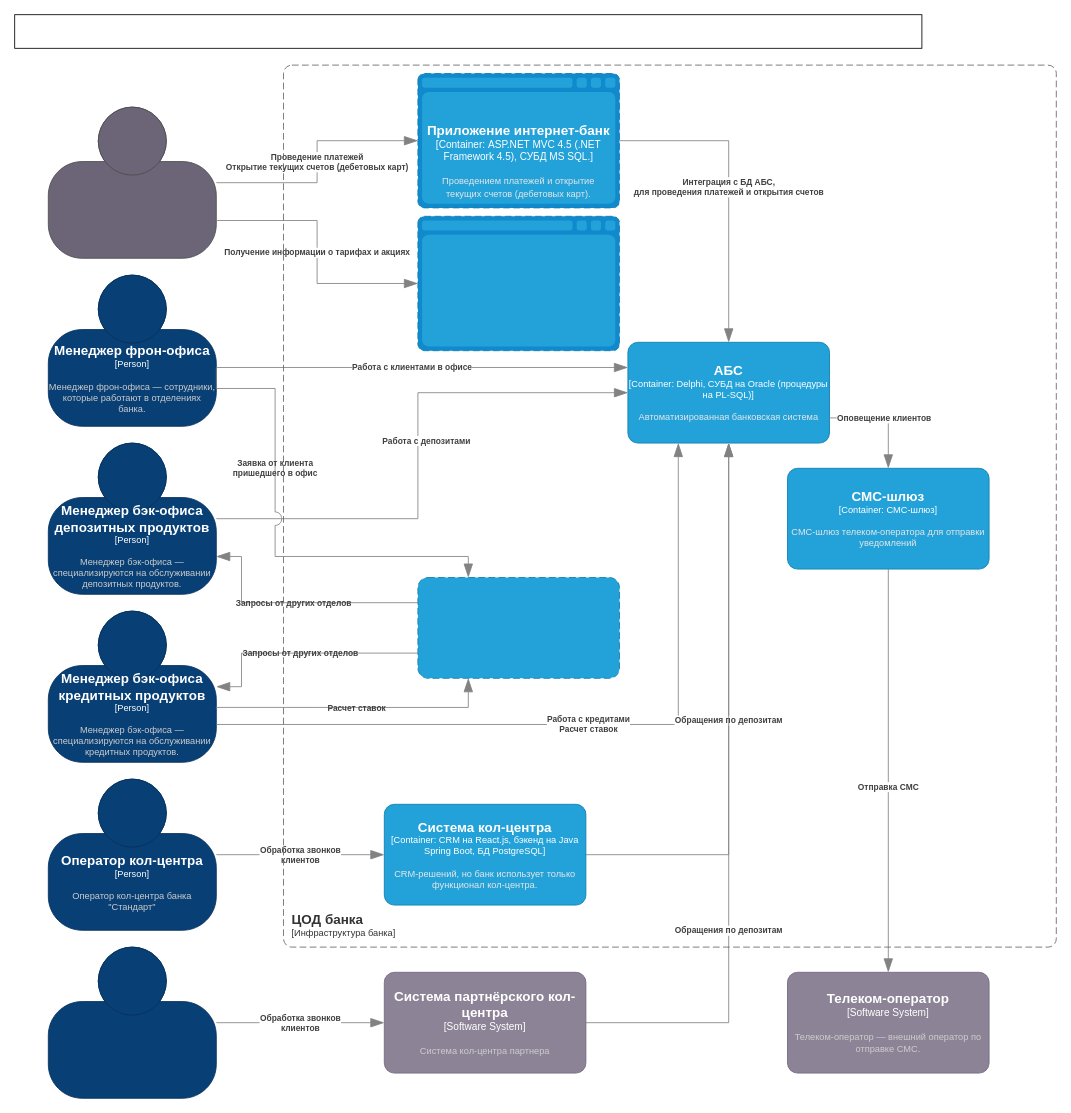
This 1071x1113 diagram has some shape labels left out. The shapes that lost their labels are listed below. From the top down, each one's centre as x and y in pixels, then its label:
At (x=468, y=31): "Схема интеграции приложений".
At (x=131, y=182): "Клиент [Person] Клиент банка".
At (x=518, y=283): "Сайт [Container: PHP, React.js] Сайт показывает маркетинговую информацию".
At (x=518, y=627): "Почта [Container: Excel] Почтовый сервер банка".
At (x=131, y=1022): "Оператор кол-центра [Person] Оператор кол-центра партнера".
